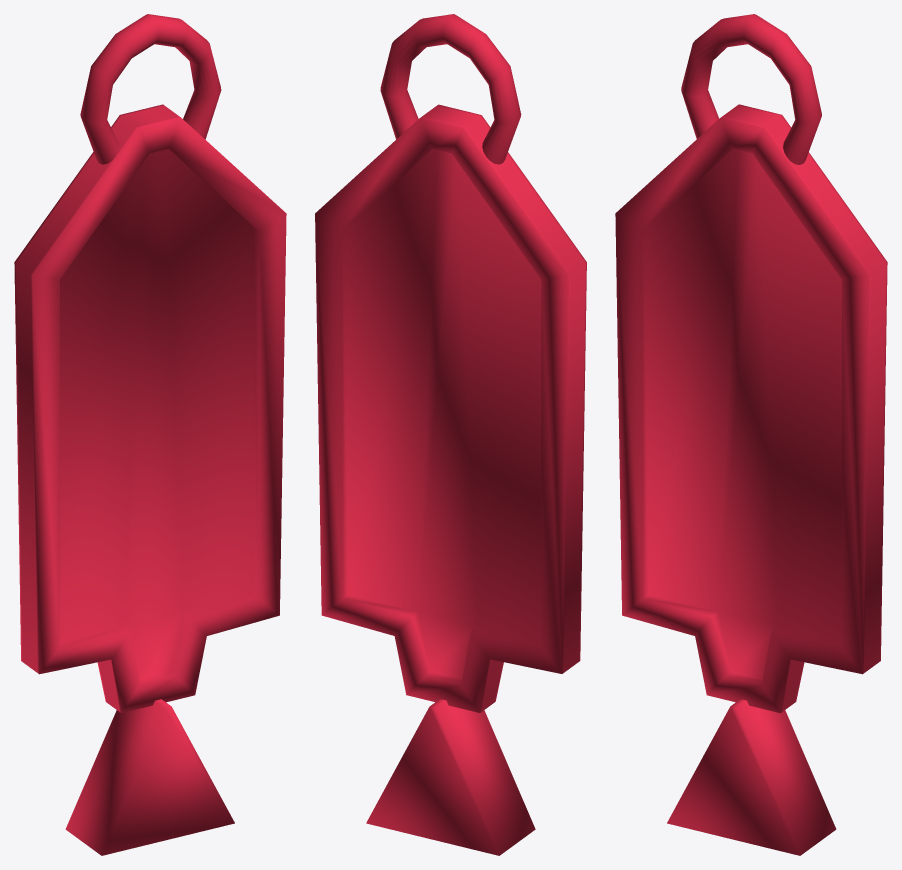
File: M_Medaillon_Triangle.fbx
3 views of the same model, side by side, from view 1: azimuth 30°, elevation 25°; view 2: azimuth 150°, elevation 25°; view 3: azimuth 330°, elevation 25° (orthographic).
Parts seen in each view (by area): view 1: Medaillon2_Triangle; view 2: Medaillon2_Triangle; view 3: Medaillon2_Triangle.
Part boxes in pixels (x1,y1,x2,y2): Medaillon2_Triangle: (14,14,286,855); Medaillon2_Triangle: (315,14,586,855); Medaillon2_Triangle: (615,14,887,855).
Bounding box in the file's own units: 6.84 × 20.87 × 1.69.
